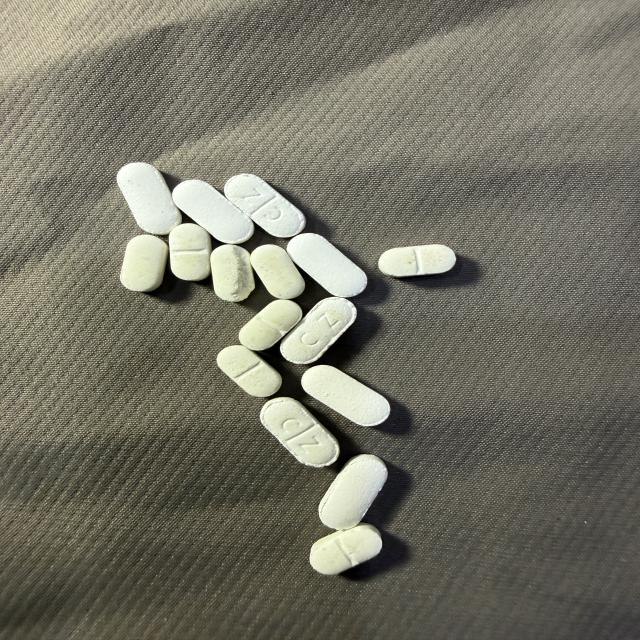pill: (260, 398, 339, 467), (302, 365, 390, 426), (225, 174, 305, 237), (173, 180, 253, 243), (287, 234, 367, 297), (319, 455, 387, 529), (281, 297, 356, 363), (117, 163, 181, 234), (310, 524, 382, 575), (217, 346, 281, 397), (239, 300, 302, 350), (251, 245, 304, 299), (120, 235, 168, 291), (379, 245, 455, 277), (211, 245, 254, 301), (169, 224, 211, 280)
